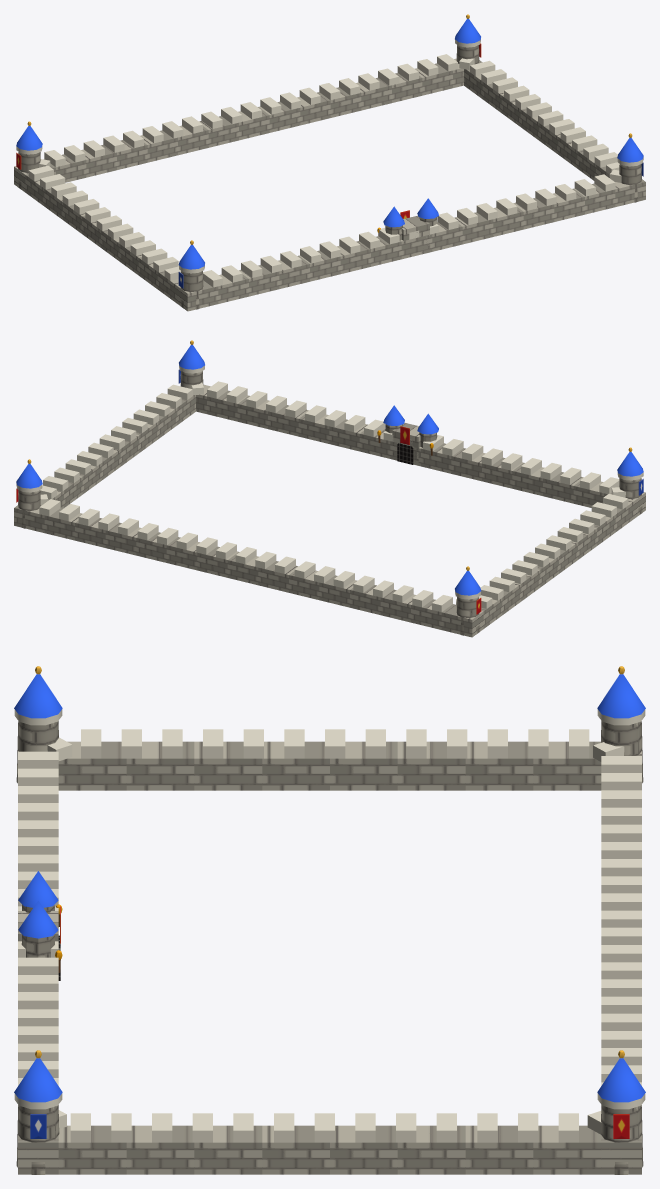
The model's file is Rim_Castle.fbx.
3 renders of one model, top to bottom at view 1: azimuth 30°, elevation 25°; view 2: azimuth 150°, elevation 25°; view 3: azimuth 270°, elevation 25°, orthographic. The views are drawn at different scales.
Visible parts, largest first — view 1: Rim_Castle; view 2: Rim_Castle; view 3: Rim_Castle.
Boxes of the visible parts, x1,y1,x2,y2 form: Rim_Castle: (14,14,645,311); Rim_Castle: (14,340,645,637); Rim_Castle: (14,666,645,1174).
Bounding box in the file's own units: 3.52 × 0.4719 × 2.33.
1 material, 1 textured.
